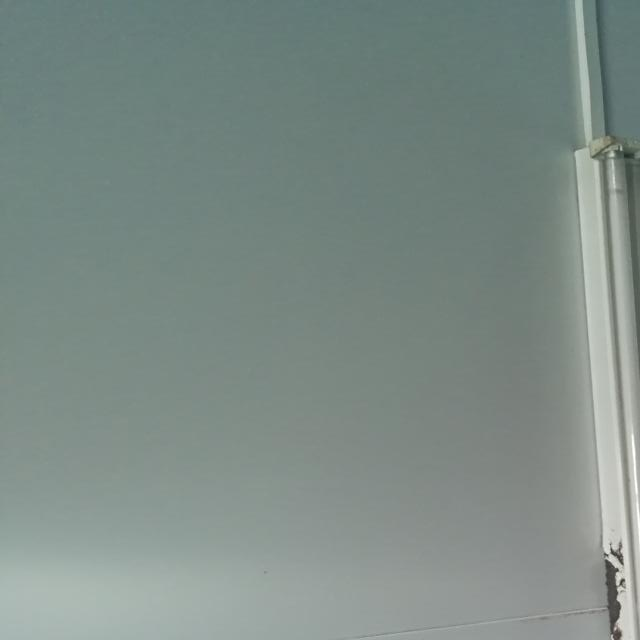fluorescent tube: (552, 119, 640, 640)
